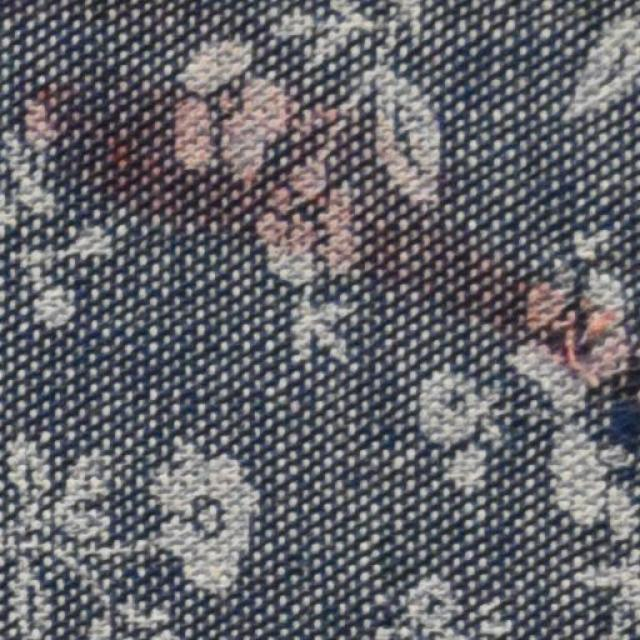Stain: (32, 61, 606, 369)
